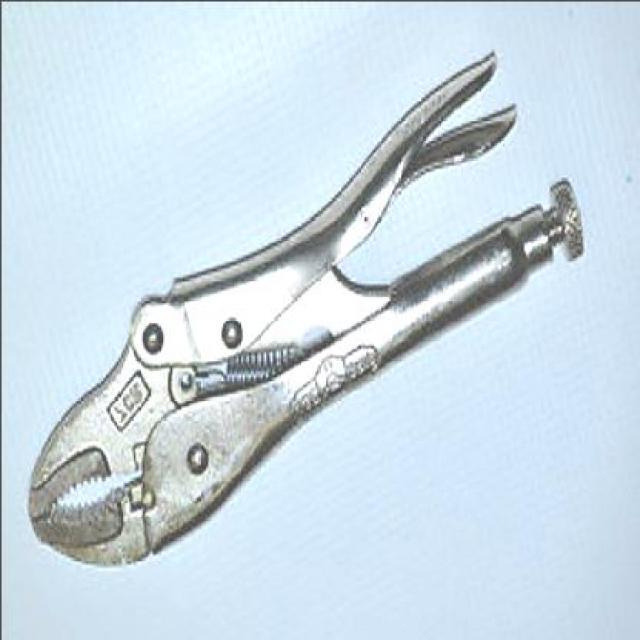pliers: (24, 46, 582, 572)
